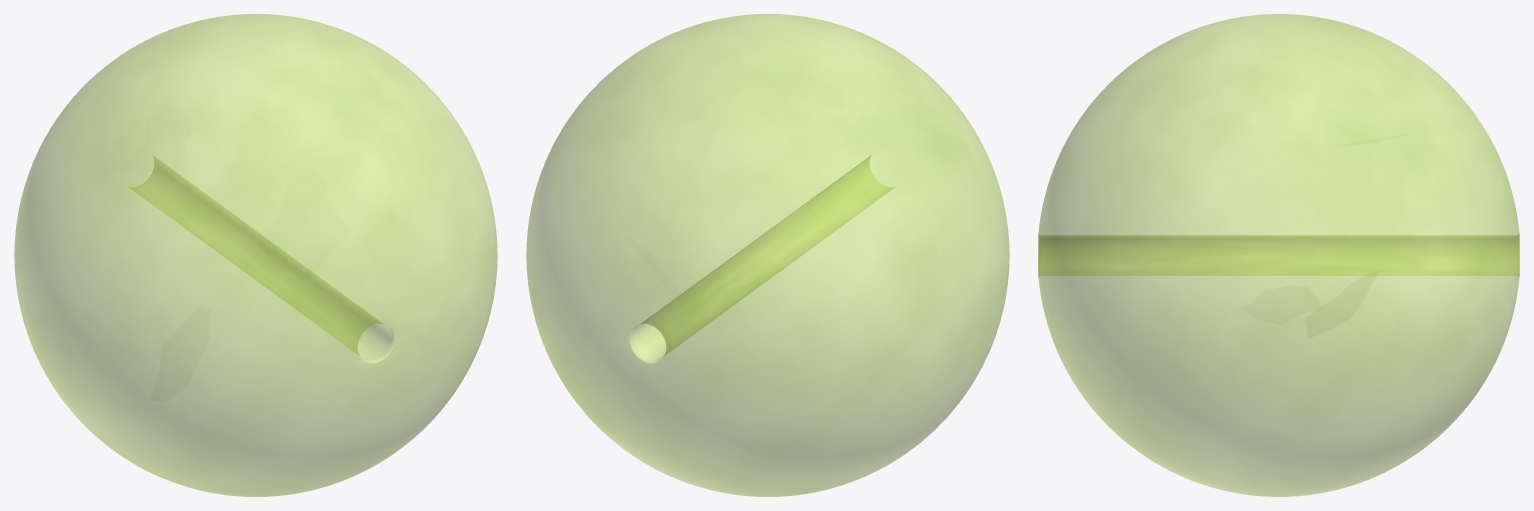
Rendered from peridot-gem-12mm.glb.
3 views of the same model, side by side, from view 1: azimuth 30°, elevation 25°; view 2: azimuth 150°, elevation 25°; view 3: azimuth 270°, elevation 25° (orthographic).
Parts seen in each view (by area): view 1: peridot-gem.001; view 2: peridot-gem.001; view 3: peridot-gem.001.
Boxes of the visible parts, <box> form: peridot-gem.001: <box>14,14,497,496</box>; peridot-gem.001: <box>526,14,1009,496</box>; peridot-gem.001: <box>1038,14,1519,496</box>.
Size of the model in its own units: 0.012 by 0.012 by 0.012.
Materials: 2 (1 with a texture image).
